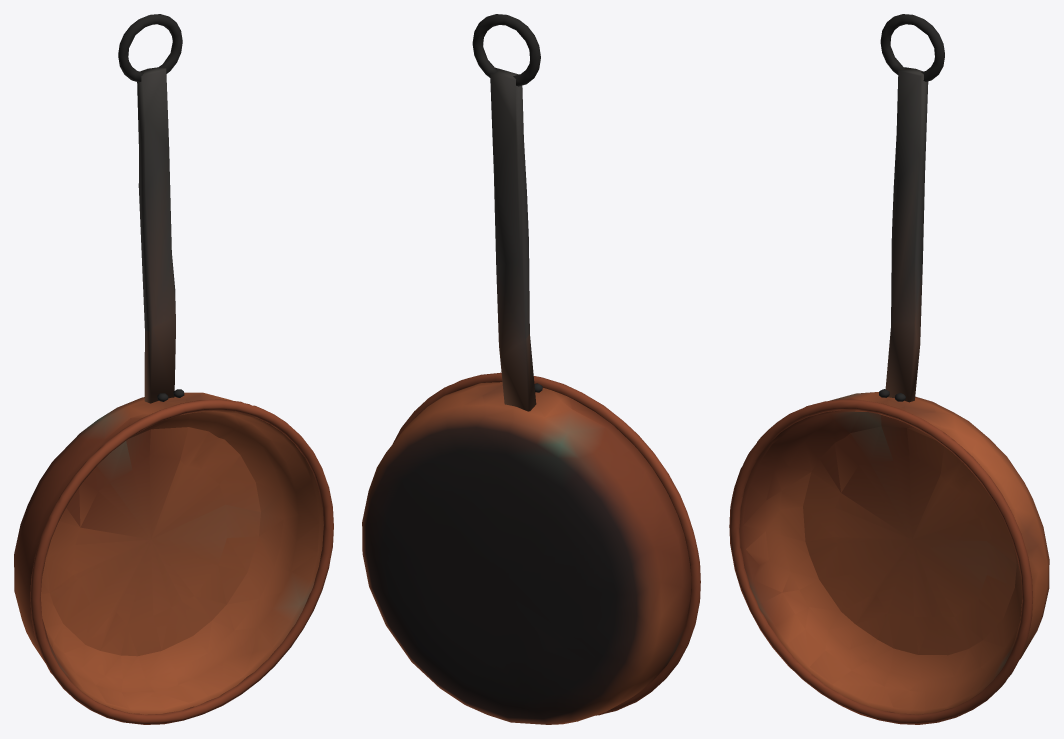
The model's file is ember_copper_pan_lod1.glb.
3 renders of one model, left to right at view 1: azimuth 30°, elevation 25°; view 2: azimuth 150°, elevation 25°; view 3: azimuth 330°, elevation 25°, orthographic. The views are drawn at different scales.
Visible parts, largest first — view 1: ember_copper_pan.001; view 2: ember_copper_pan.001; view 3: ember_copper_pan.001.
Boxes of the visible parts, <box> form: ember_copper_pan.001: <box>14,14,333,724</box>; ember_copper_pan.001: <box>362,14,700,724</box>; ember_copper_pan.001: <box>729,14,1049,724</box>.
Bounding box in the file's own units: 18.76 × 40.48 × 4.61.
